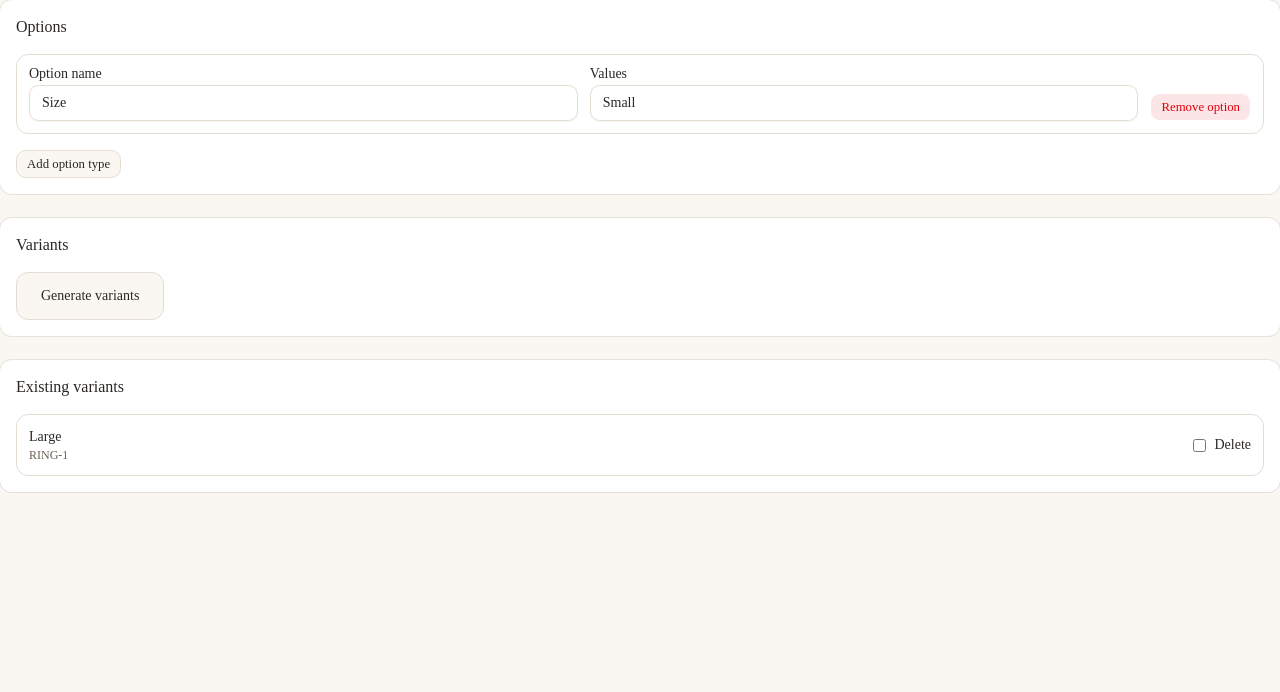
Test: VariantsBuilder › a new row's SKU colliding with an existing variant's SKU (case-insensitive) is flagged the same way
Click the button "Generate variants" at (90, 296), box [16,272,164,320]
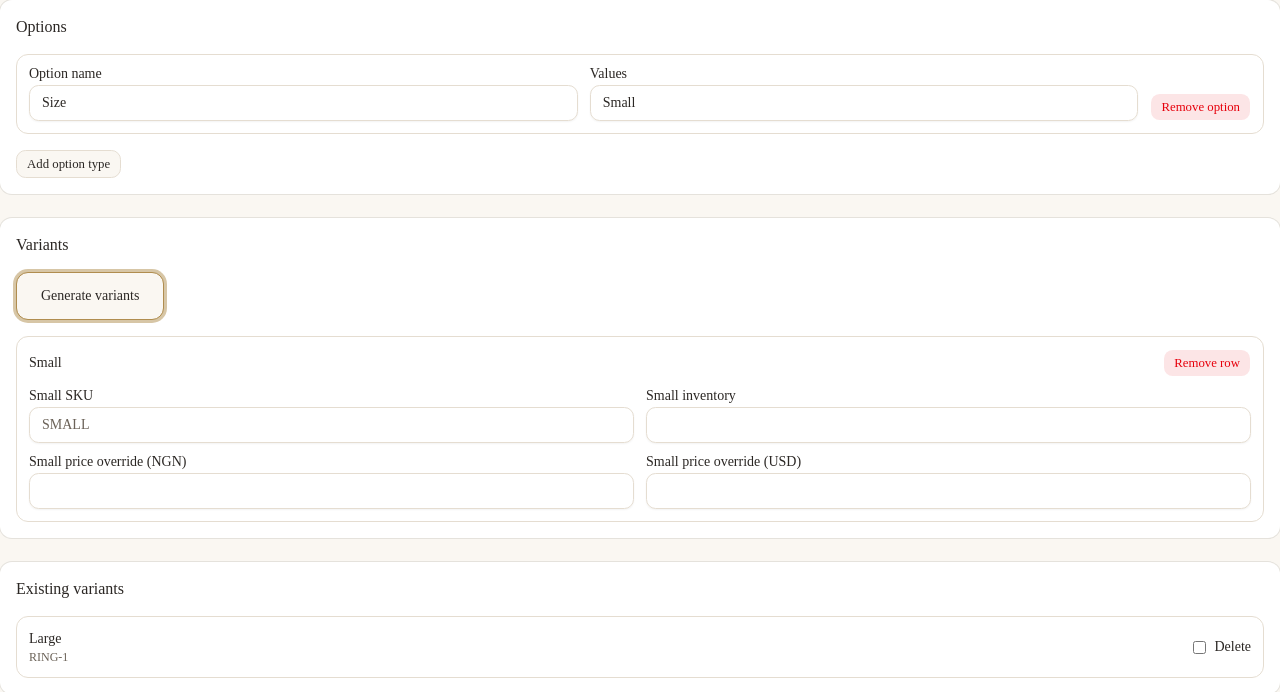
Type "ring-1" into the field labelled "Small SKU" at (332, 425), box [29,407,634,443]
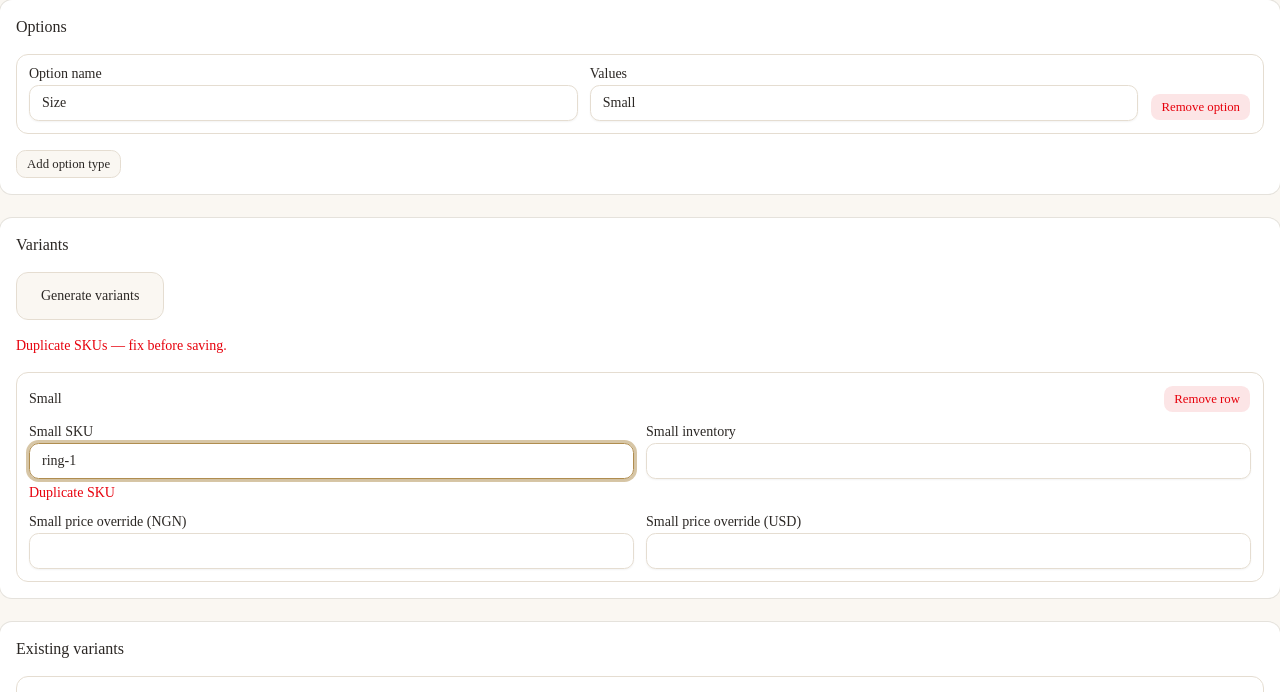
Check: the text "Duplicate SKUs — fix before saving." is shown, box [16,338,227,353]
